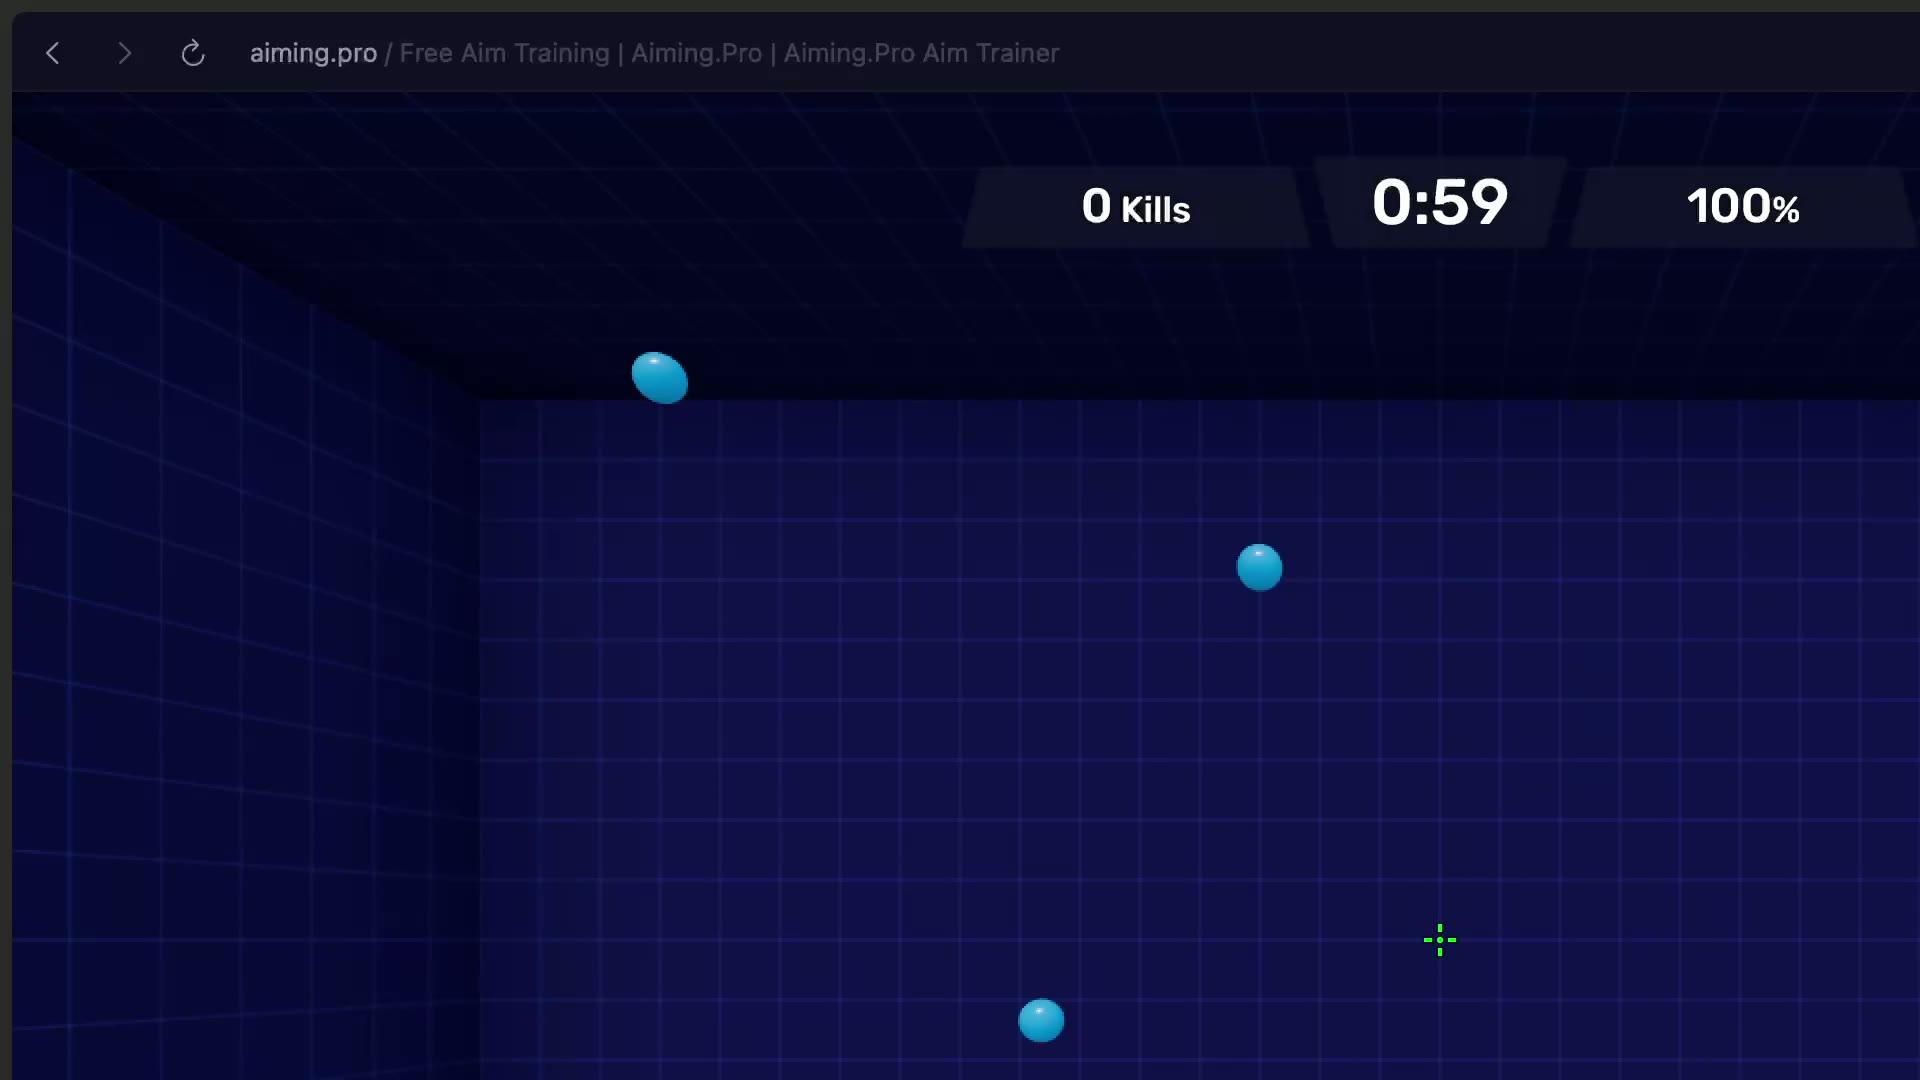target: (632, 352, 688, 404), (1237, 545, 1282, 591), (1019, 1000, 1064, 1043)
